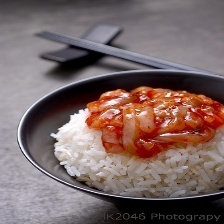rice: (50, 113, 224, 196)
